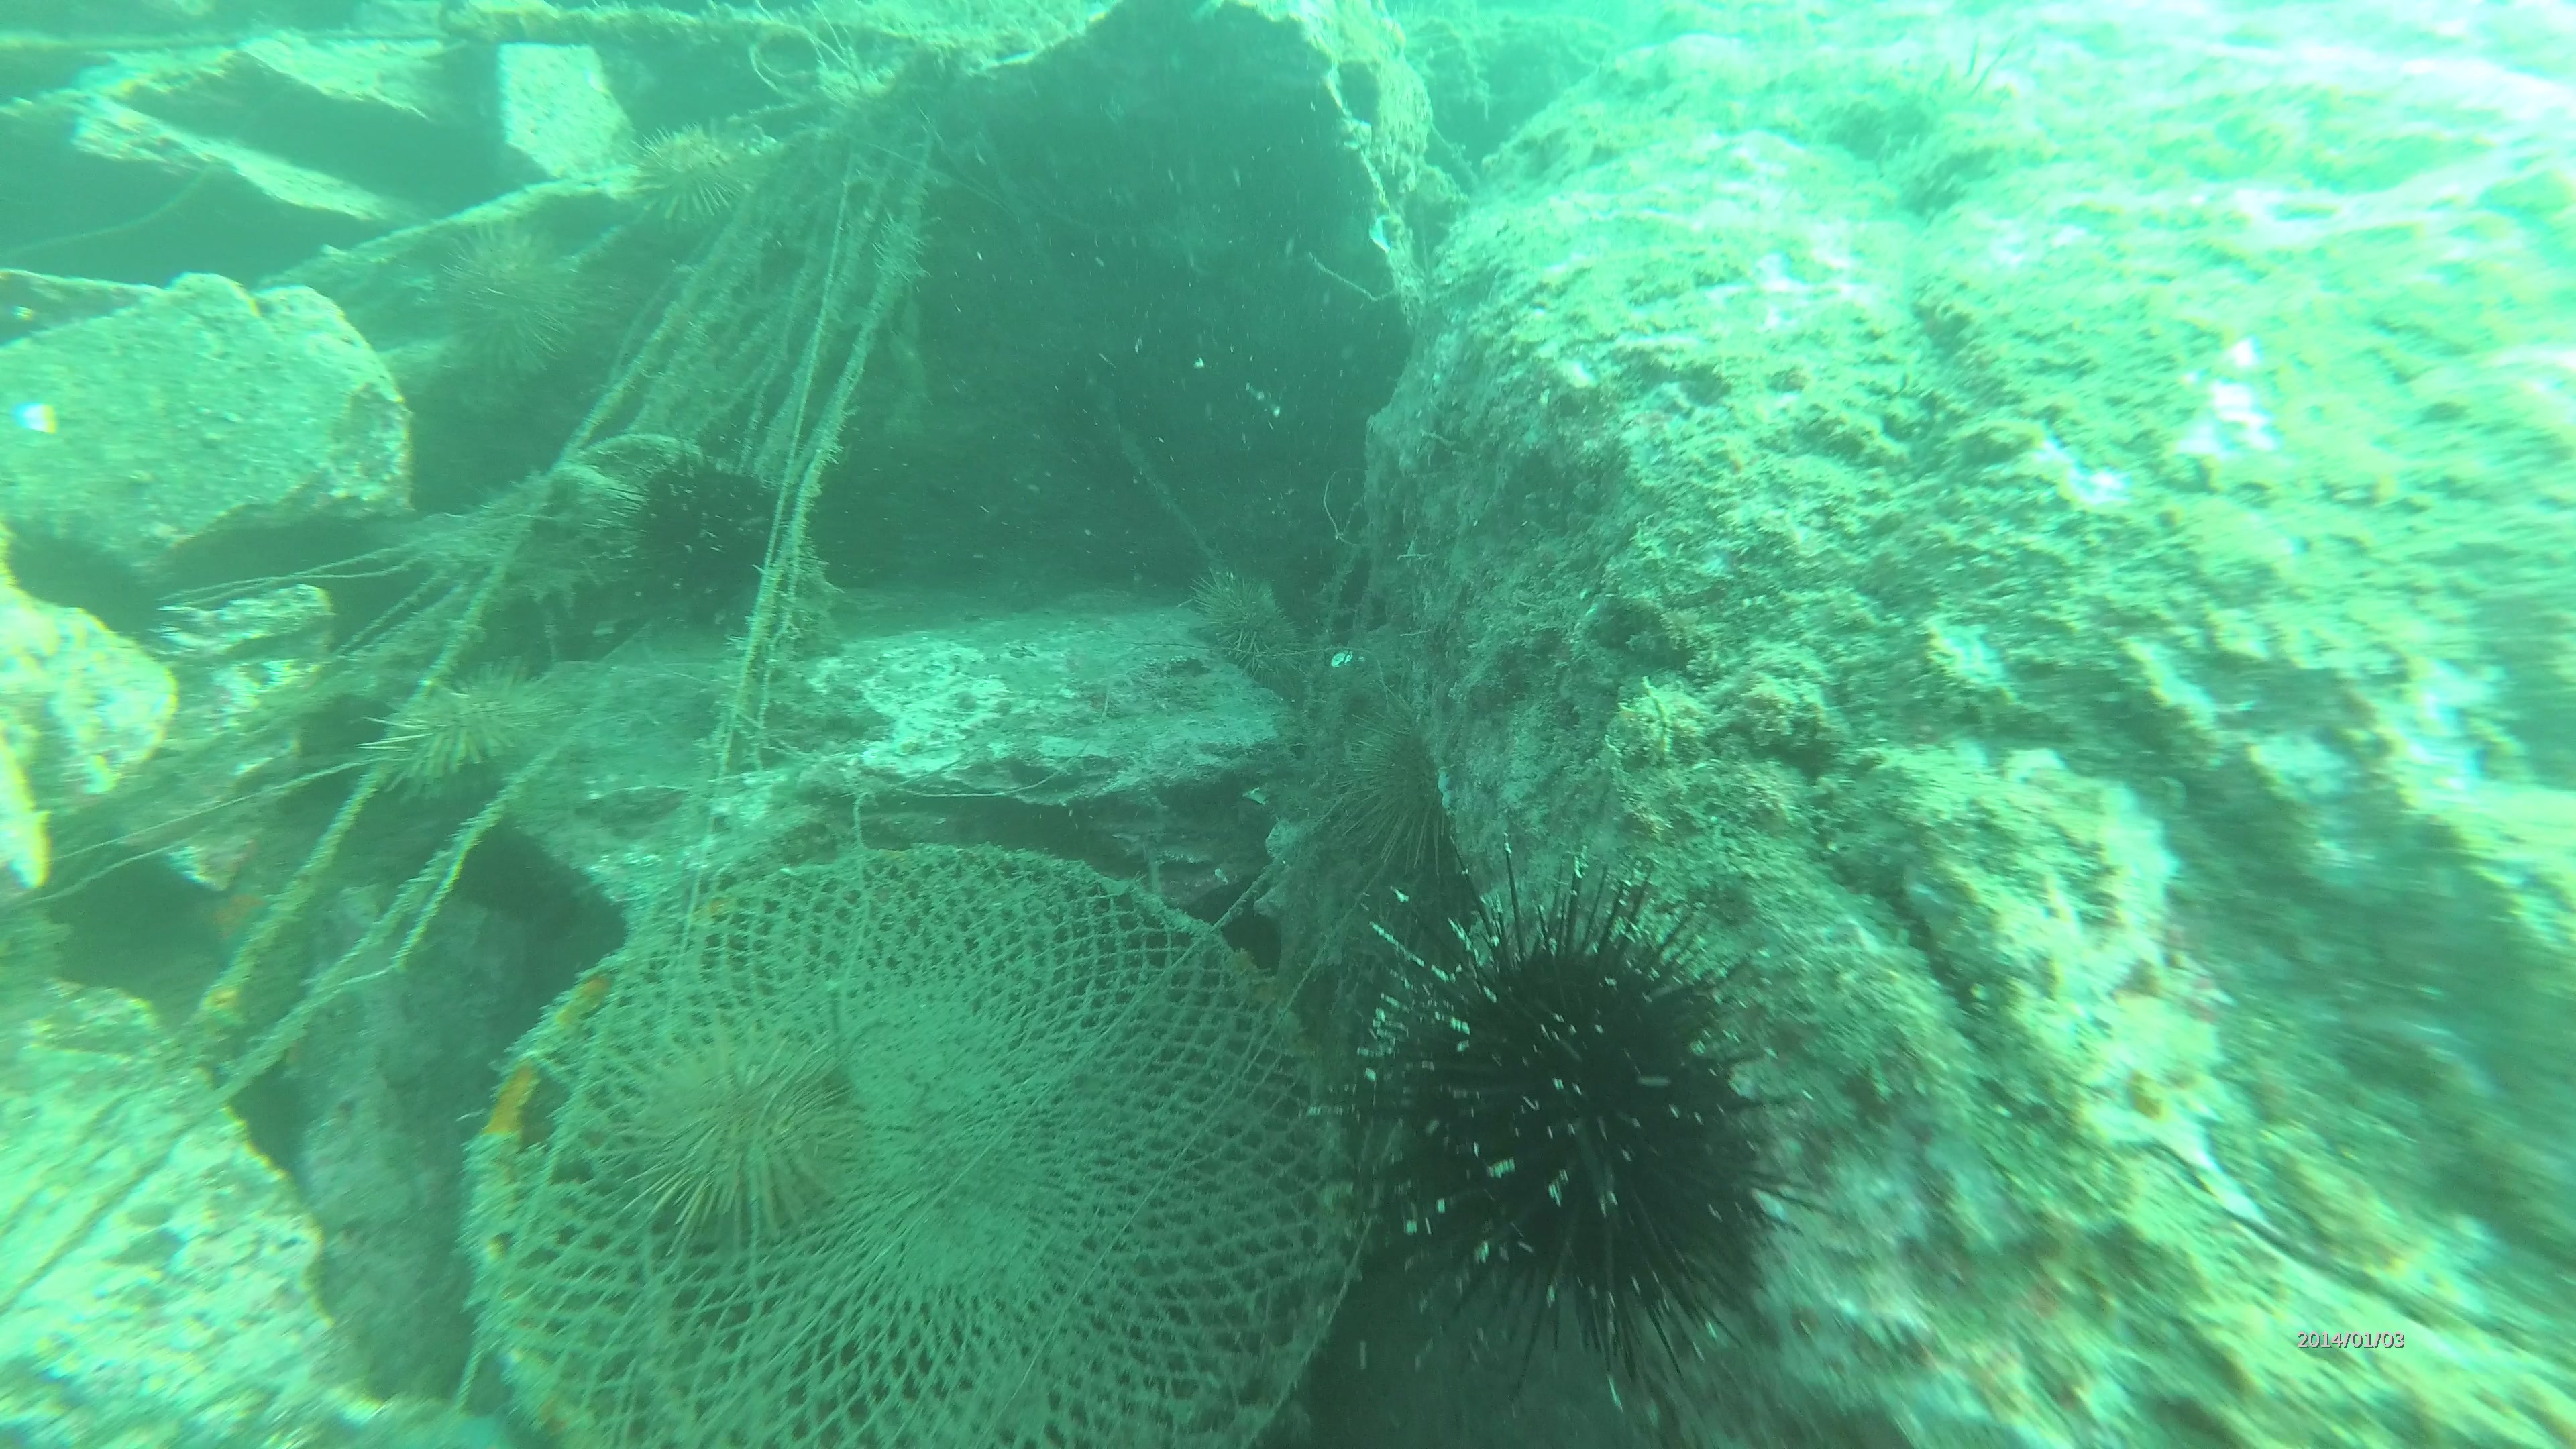echinus: (1375, 895, 1794, 1361), (648, 1040, 853, 1230), (435, 223, 596, 384), (621, 455, 786, 605), (375, 669, 566, 793), (630, 117, 766, 234)
starfish: (177, 860, 285, 975)
